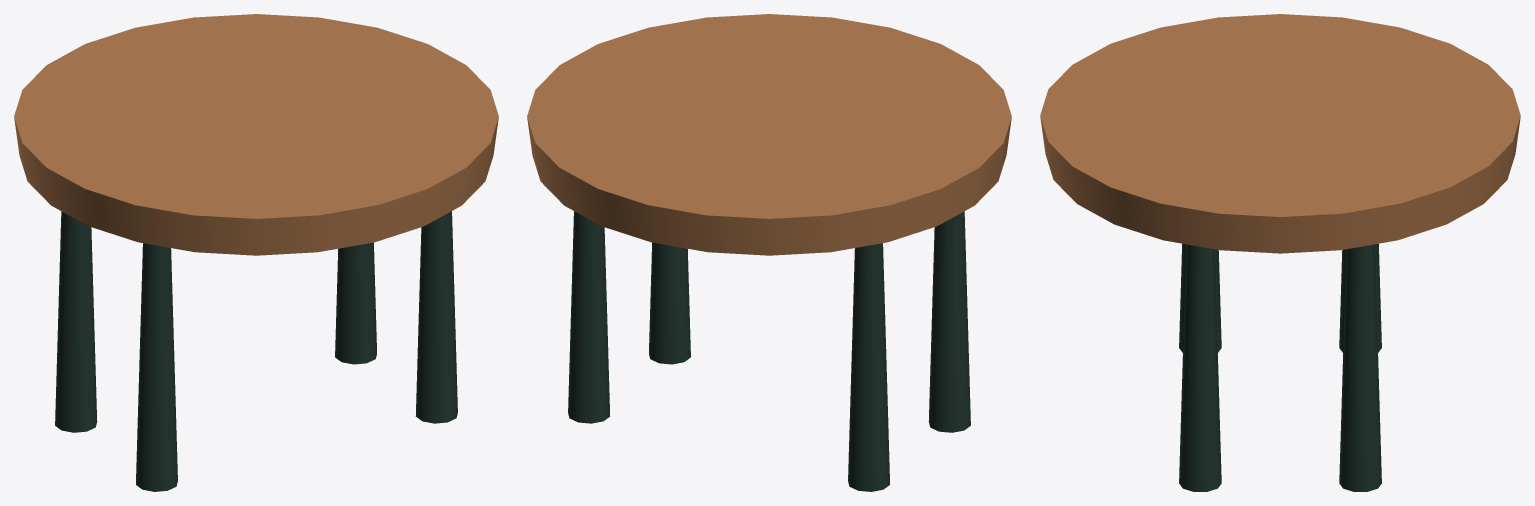
Rendered from side-table.glb.
The picture shows the model from 3 angles, left to right: view 1: azimuth 30°, elevation 25°; view 2: azimuth 150°, elevation 25°; view 3: azimuth 270°, elevation 25°; orthographic projection.
Visible parts, largest first — view 1: side_table; view 2: side_table; view 3: side_table.
Boxes of the visible parts, <box> form: side_table: <box>14,14,498,491</box>; side_table: <box>527,14,1011,491</box>; side_table: <box>1040,14,1520,491</box>.
Bounding box in the file's own units: 0.9 × 0.62 × 0.9.
